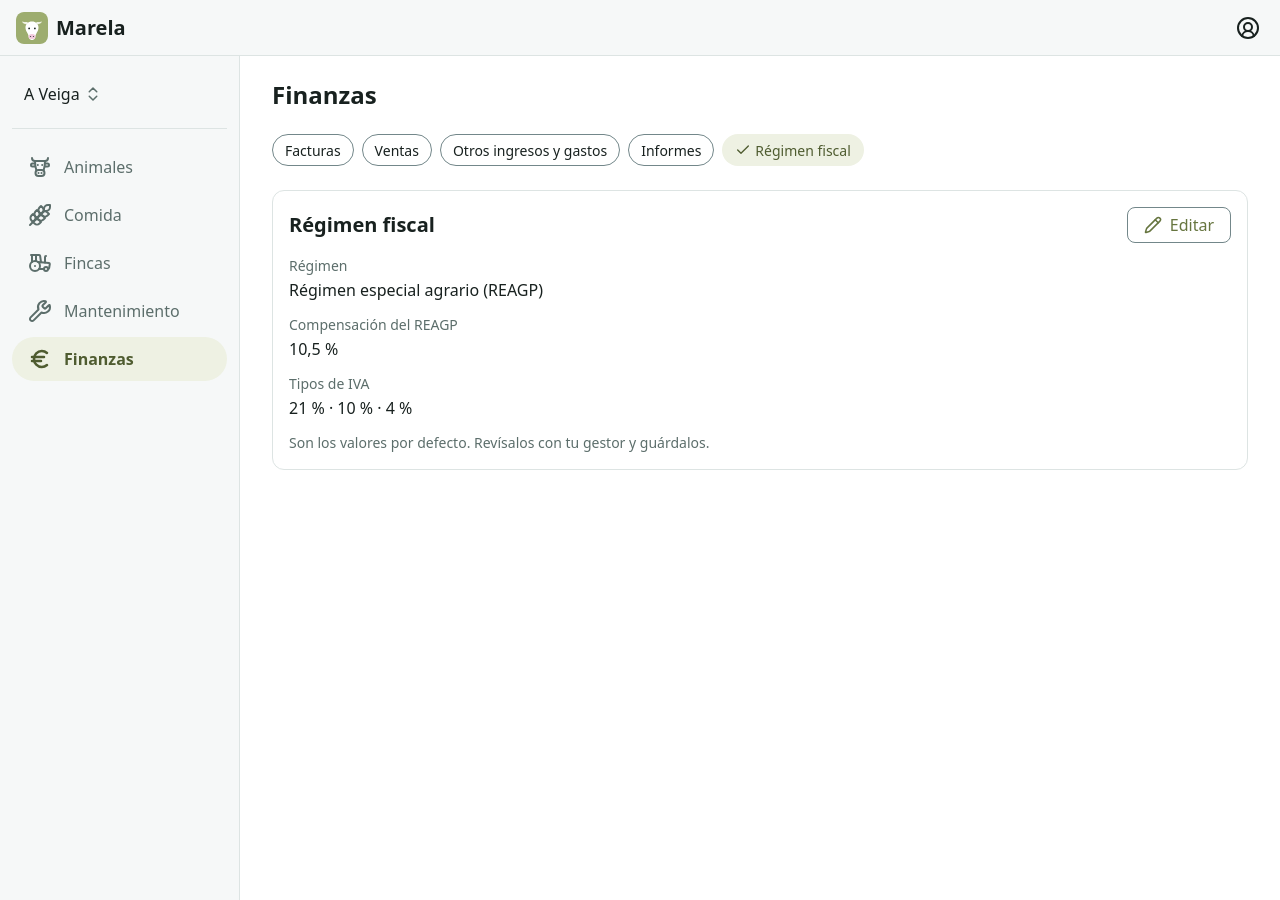
Test: régimen fiscal (GH-34) › no deja guardar sin ningún tipo de IVA ni una compensación fuera de 0 a 100
Step 1. Click the button "Editar" → (1179, 225), box [1127,207,1231,243]
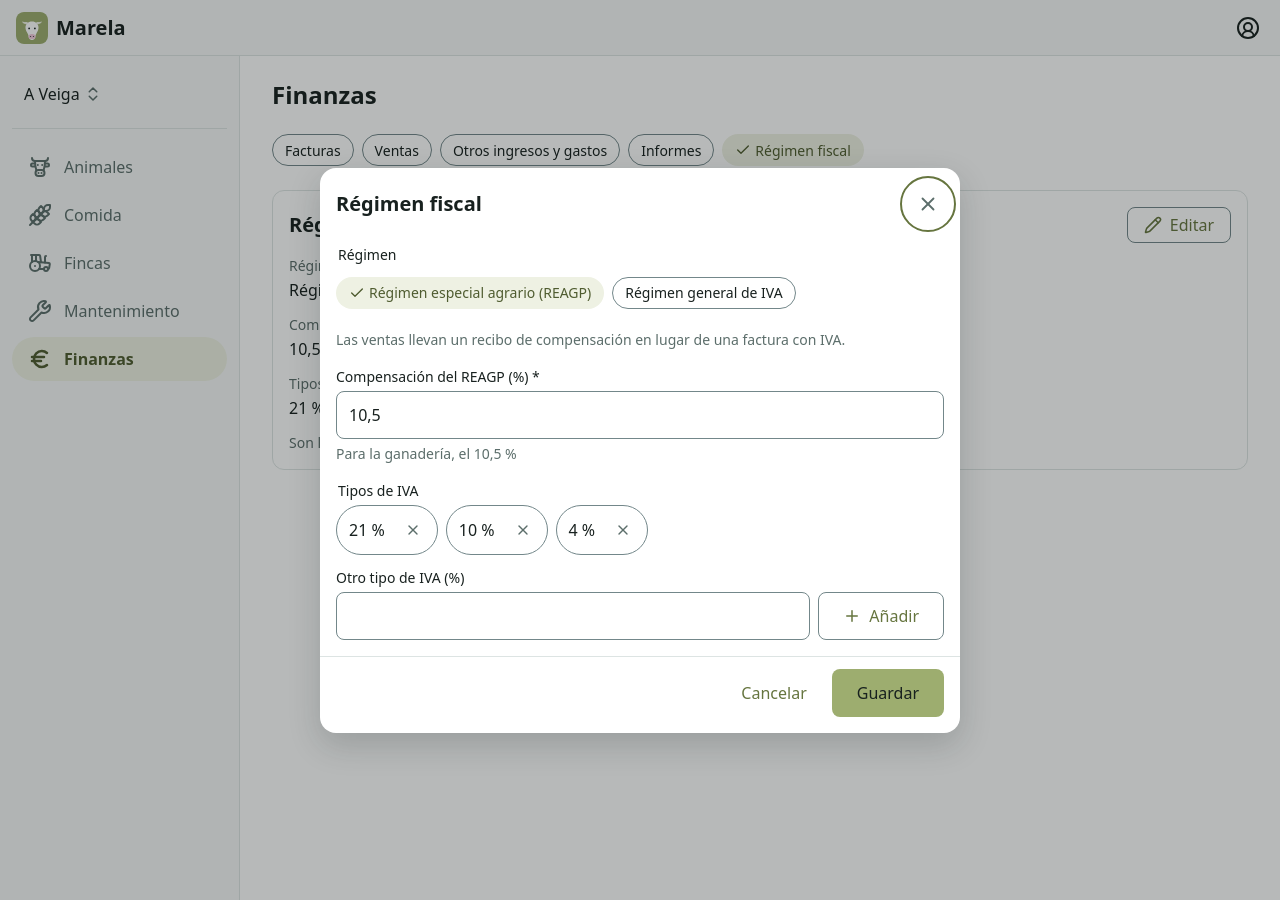
Step 2. Click the button named "Quitar el 21 %" → (413, 530), box [389,506,437,554]
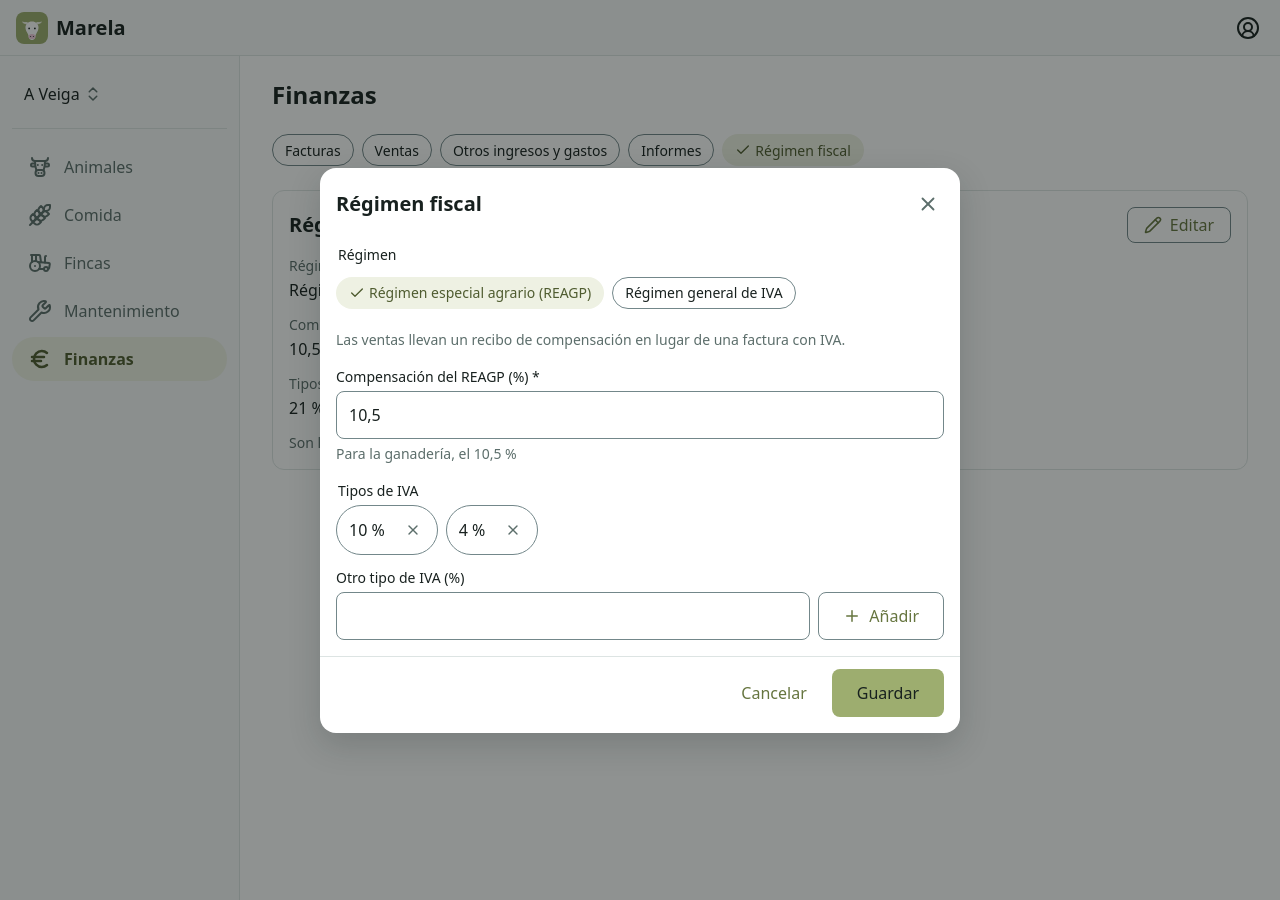
Step 3. Click the button named "Quitar el 10 %" → (413, 530), box [389,506,437,554]
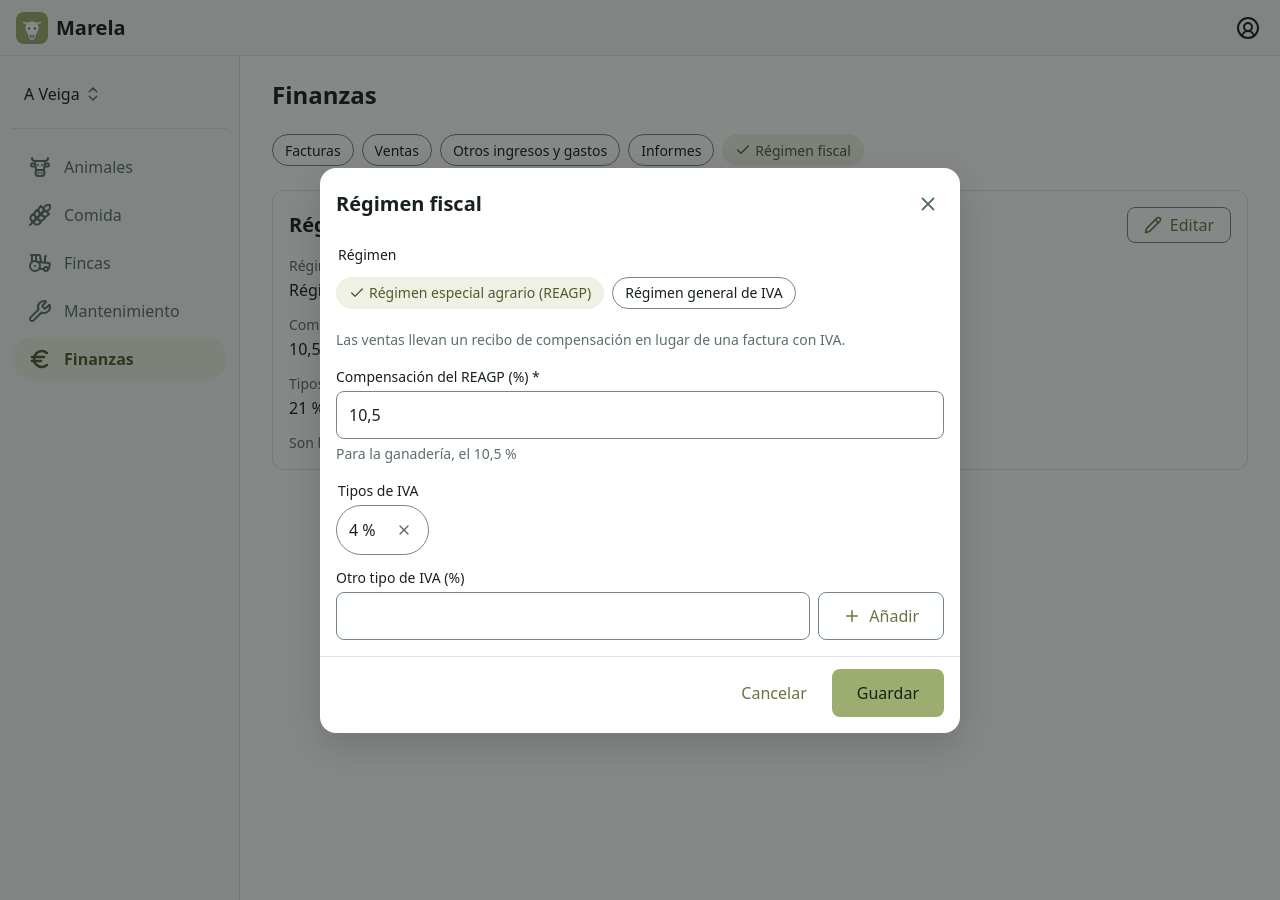
Step 4. Click the button named "Quitar el 4 %" → (404, 530), box [380,506,428,554]
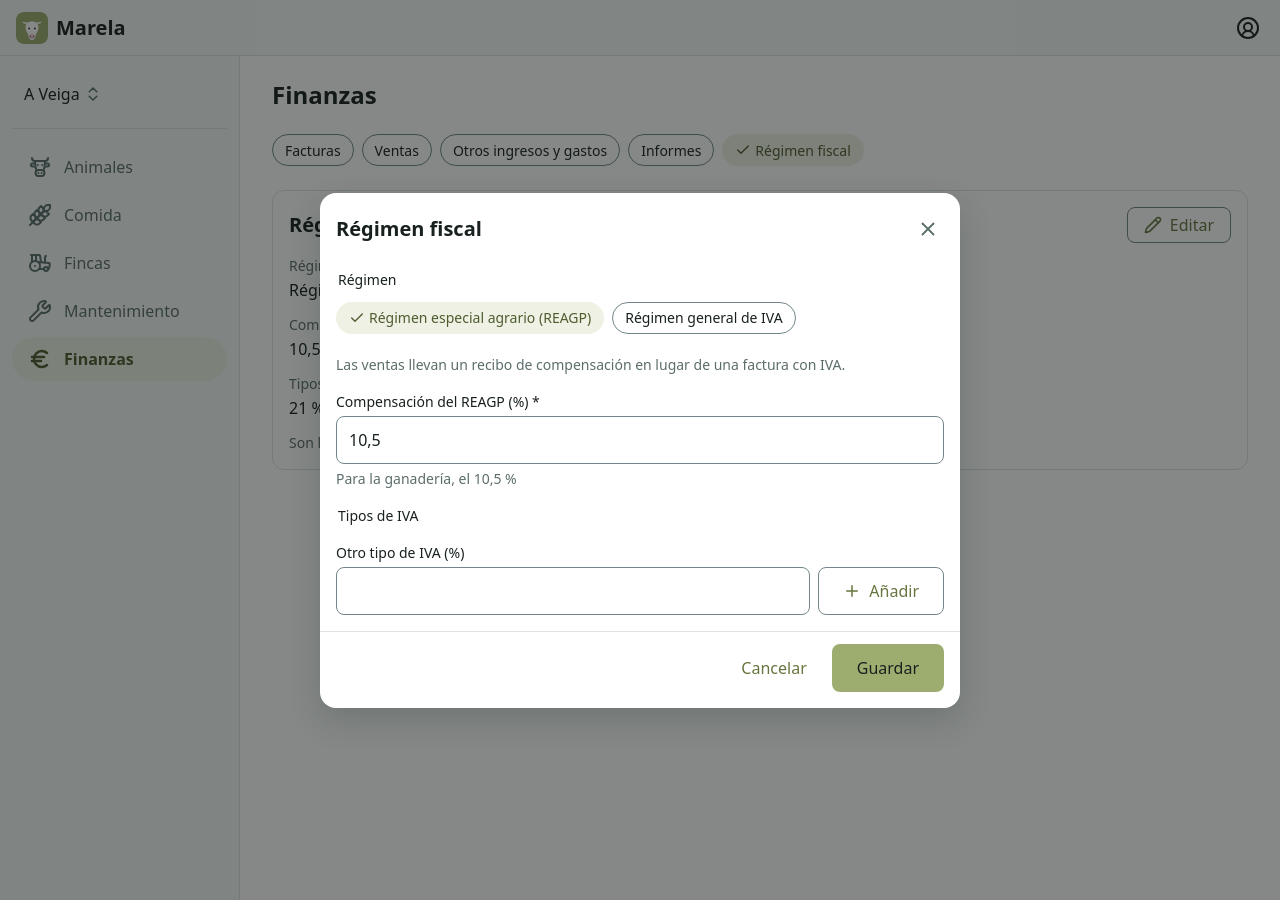
Step 5. Replace the text in the field labelled "Compensación del REAGP (%) *" with "150" → (640, 440), box [336,416,944,464]
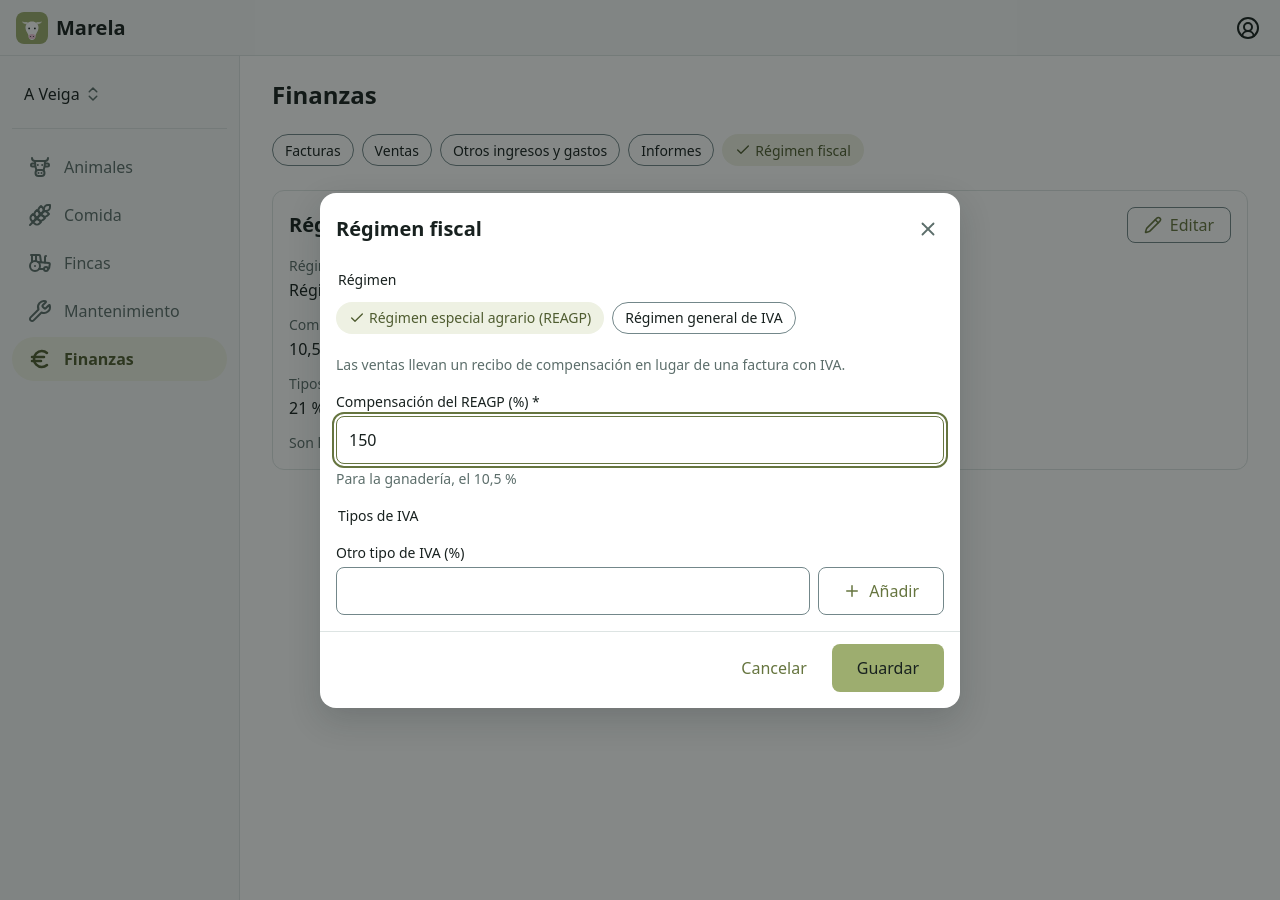
Step 6. Click the button "Guardar" → (888, 668), box [832,644,944,692]
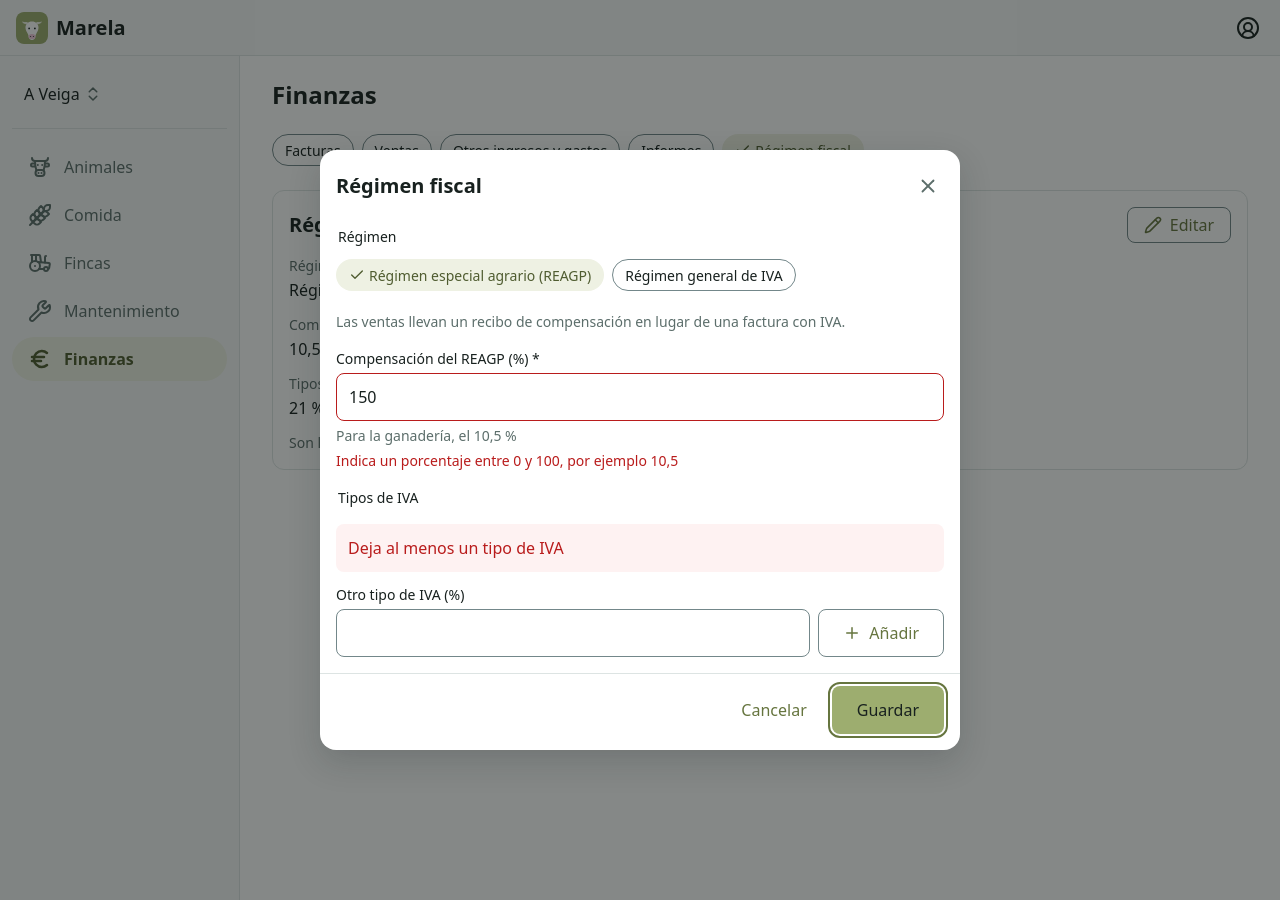
Now the text "Deja al menos un tipo de IVA" is shown, box [336,524,944,572]
Now the text "Indica un porcentaje entre 0 y 100, por ejemplo 10,5" is shown, box [336,451,678,470]
